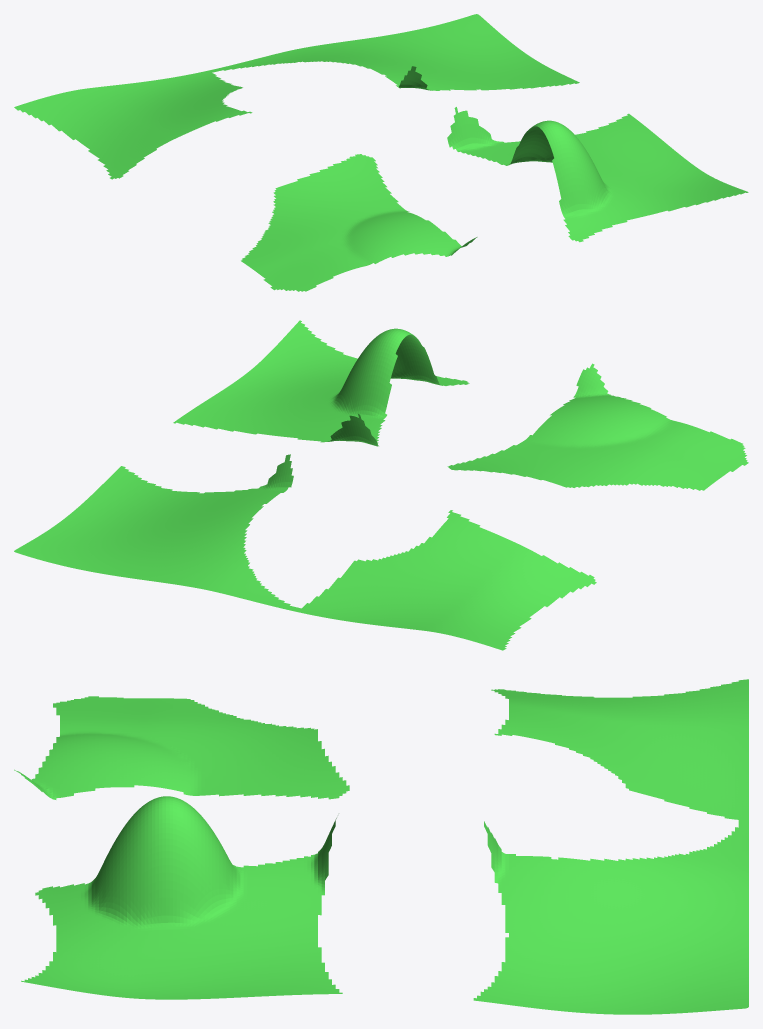
The model's file is terrain_green.dae.
3 views of the same model, one above another, from view 1: azimuth 30°, elevation 25°; view 2: azimuth 150°, elevation 25°; view 3: azimuth 270°, elevation 25° (orthographic). The views are drawn at different scales.
Parts seen in each view (by area): view 1: terrain_green; view 2: terrain_green; view 3: terrain_green.
Boxes of the visible parts, x1,y1,x2,y2 form: terrain_green: (14, 14, 748, 291); terrain_green: (14, 320, 748, 650); terrain_green: (14, 679, 748, 1014).
Bounding box in the file's own units: 39.63 × 40.61 × 7.38.
